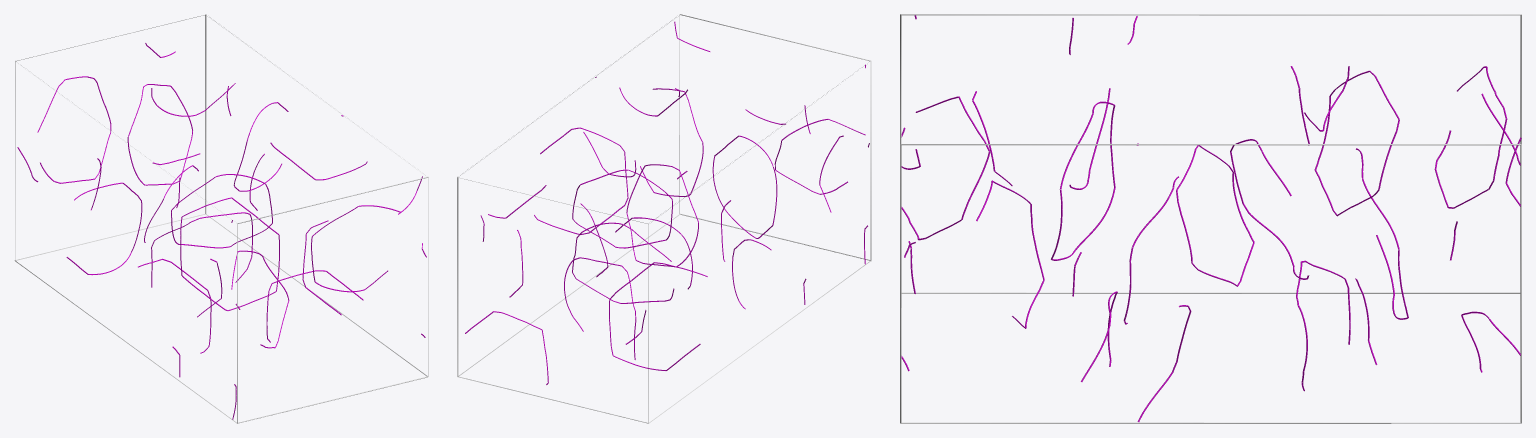
3 renders of one model, left to right at view 1: azimuth 30°, elevation 25°; view 2: azimuth 150°, elevation 25°; view 3: azimuth 270°, elevation 25°, orthographic. The views are drawn at different scales.
Parts seen in each view (by area): view 1: Shape_IndexedLineSet.001, Shape_IndexedLineSet; view 2: Shape_IndexedLineSet.001, Shape_IndexedLineSet; view 3: Shape_IndexedLineSet.001, Shape_IndexedLineSet.
Part boxes in pixels (box(x1,y1,x2,y2)): Shape_IndexedLineSet.001: box(17, 43, 426, 419); Shape_IndexedLineSet: box(14, 14, 428, 423); Shape_IndexedLineSet.001: box(465, 21, 869, 384); Shape_IndexedLineSet: box(457, 14, 871, 423); Shape_IndexedLineSet.001: box(901, 15, 1521, 421); Shape_IndexedLineSet: box(900, 14, 1521, 423).
Bounding box in the file's own units: 233 × 233 × 469.
